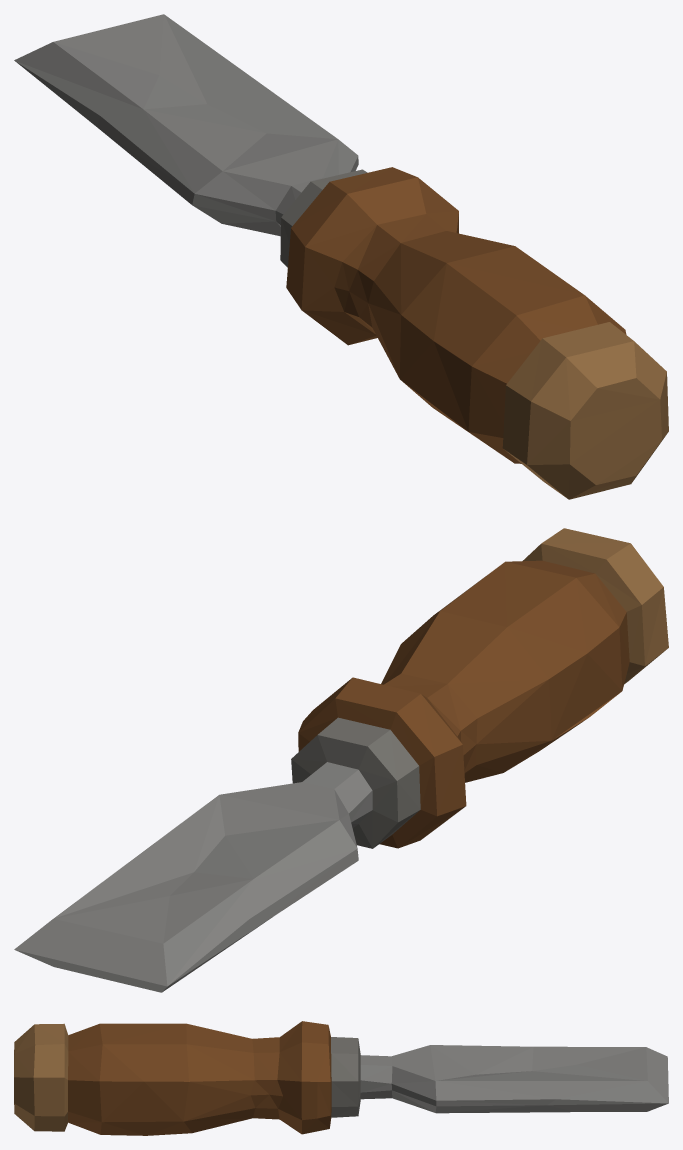
The model's file is WoodworkingChisel_3.fbx.
3 renders of one model, top to bottom at view 1: azimuth 30°, elevation 25°; view 2: azimuth 150°, elevation 25°; view 3: azimuth 270°, elevation 25°, orthographic. The views are drawn at different scales.
Parts seen in each view (by area): view 1: WoodworkingChisel_3; view 2: WoodworkingChisel_3; view 3: WoodworkingChisel_3.
Part boxes in pixels (x1=…): WoodworkingChisel_3: x1=14, y1=14, x2=668, y2=499; WoodworkingChisel_3: x1=14, y1=528, x2=668, y2=992; WoodworkingChisel_3: x1=14, y1=1021, x2=668, y2=1135.
Size of the model in its own units: 0.0469 by 0.2584 by 0.0406.
